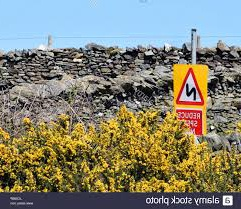Double_bend_left: (174, 65, 206, 106)
